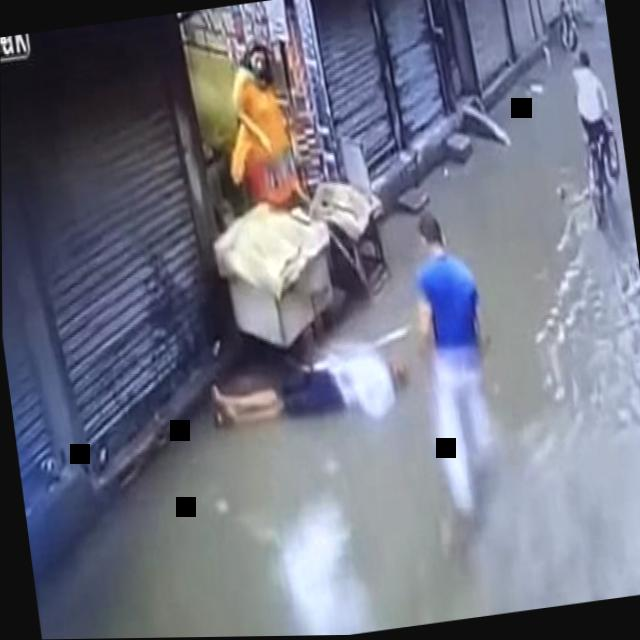Fall-Detected: (193, 318, 416, 444)
